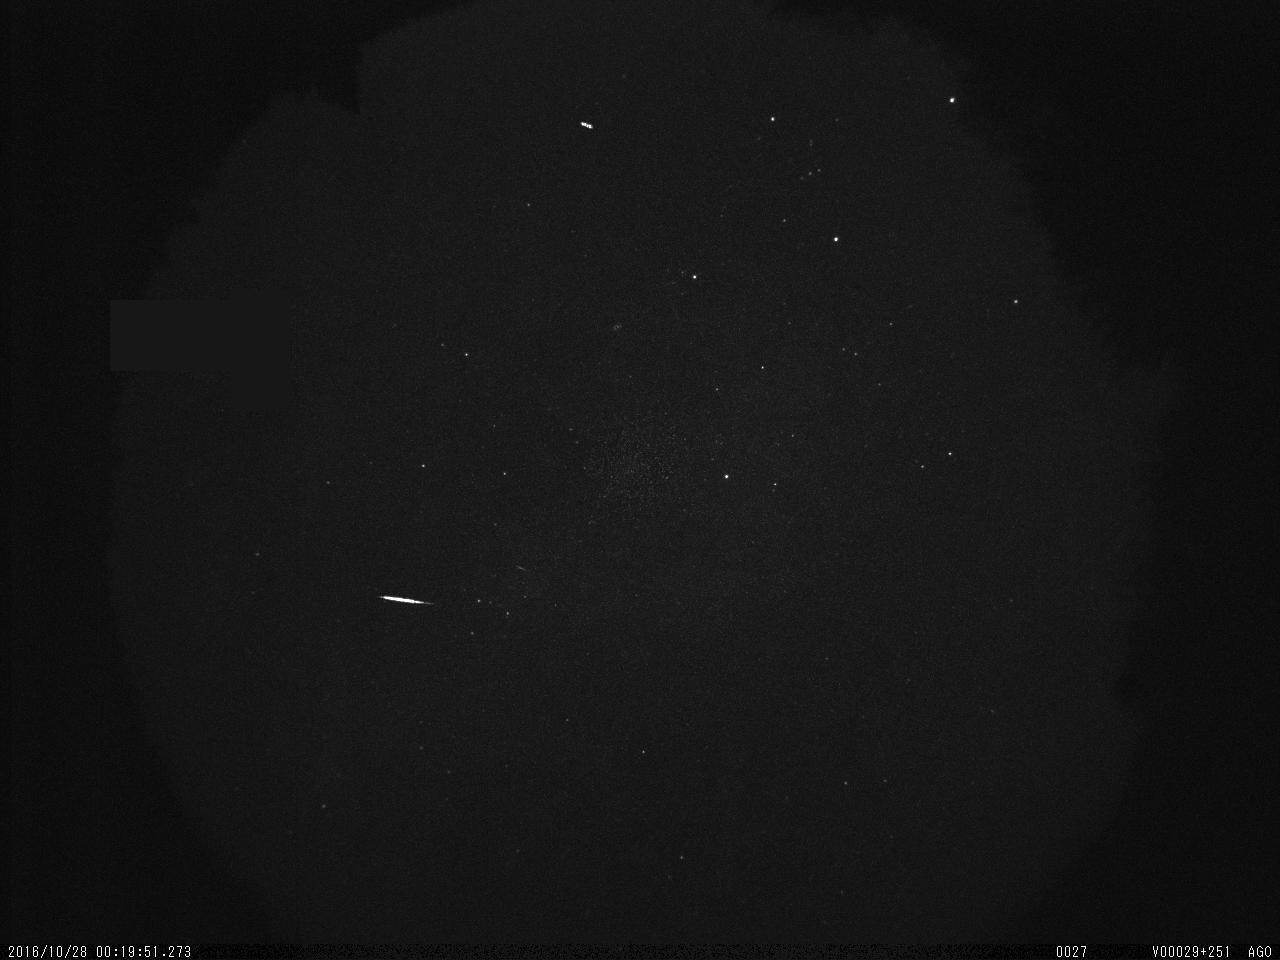meteor: (365, 586, 442, 614)
